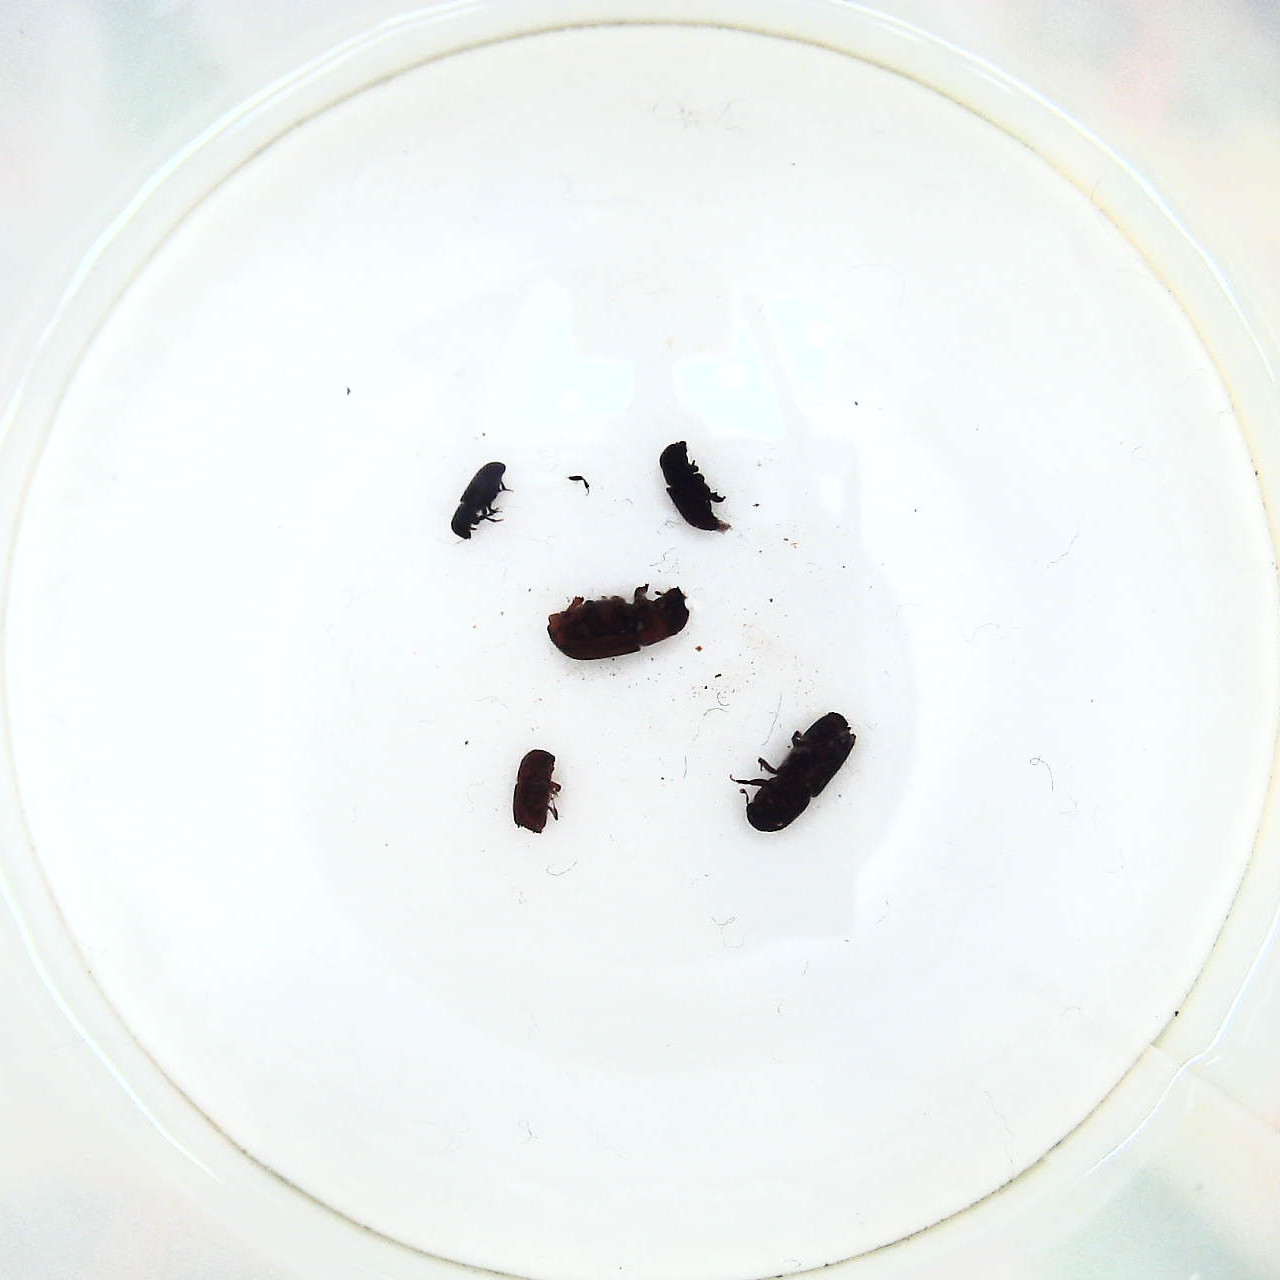Boerner: (730, 706, 862, 838)
Leconte: (545, 576, 694, 662)
armandi: (655, 435, 730, 535)
coleoptera: (447, 459, 523, 543)
linnaeus: (504, 743, 560, 838)
